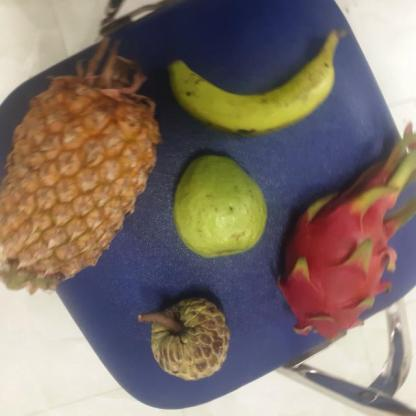annona: (146, 294, 234, 381)
banana: (175, 45, 346, 134)
guava: (172, 154, 274, 256)
pitaya: (276, 195, 392, 334)
